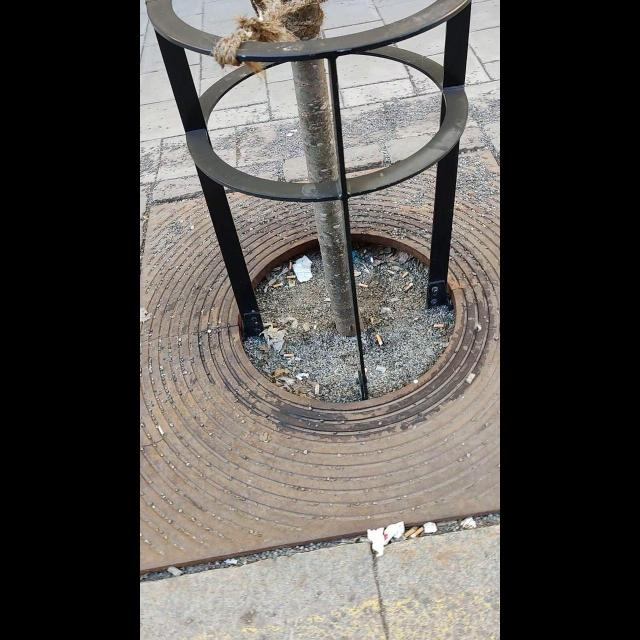cigarette: (412, 527, 424, 539), (402, 530, 414, 540), (466, 374, 476, 384), (374, 334, 382, 344), (404, 283, 412, 291), (376, 364, 385, 371), (273, 283, 283, 289), (315, 384, 320, 395), (283, 353, 296, 357), (432, 324, 446, 327), (358, 285, 370, 288), (288, 275, 296, 279), (402, 273, 407, 279), (290, 262, 292, 270), (371, 317, 375, 321)
